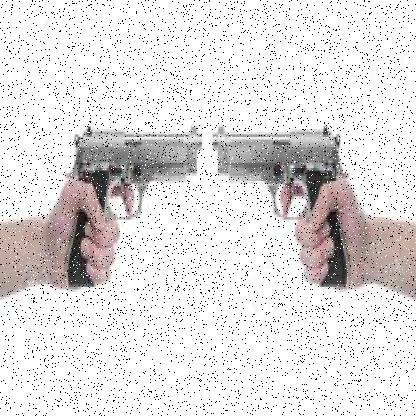pistol: (62, 111, 202, 307), (214, 116, 350, 294)
